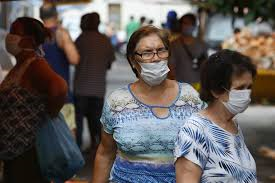mask_weared_incorrect: (128, 25, 173, 88)
